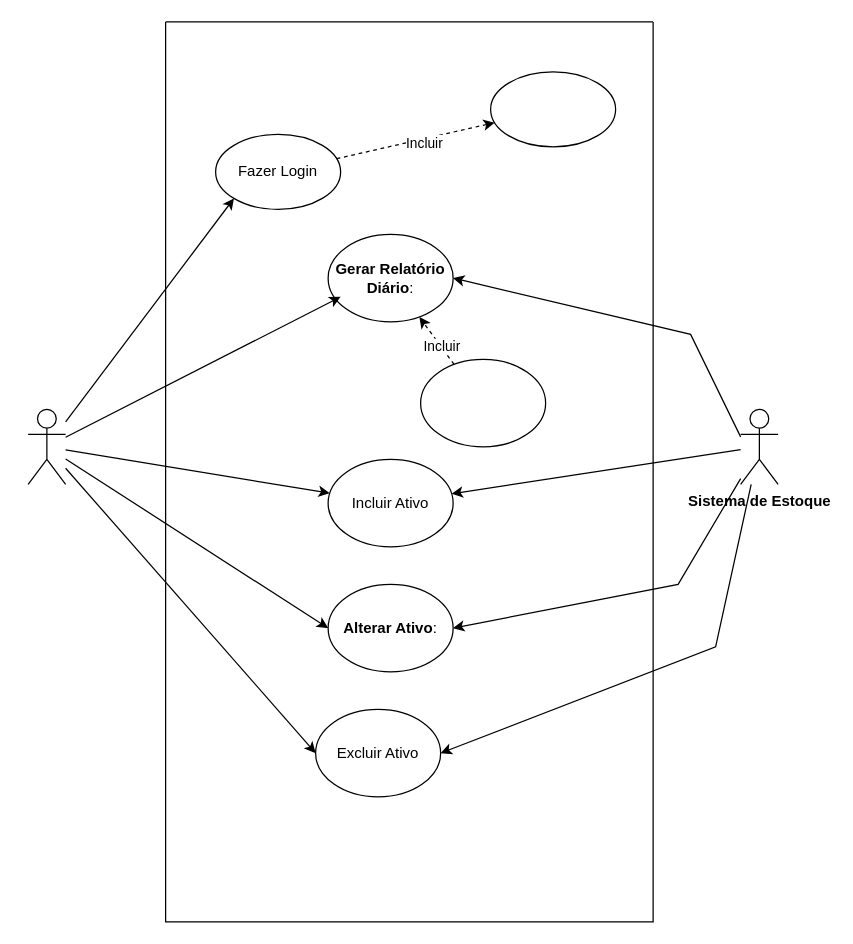
This 853x944 diagram has some shape labels left out. The centre of each missing label's shape, as x and y in pixels:
"Consultar Ativos" goes at pixel 482 402.
"Monitor" goes at pixel 46 446.
"Verificar Senha" goes at pixel 552 109.
